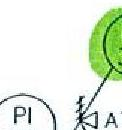psv: (72, 94, 98, 129)
